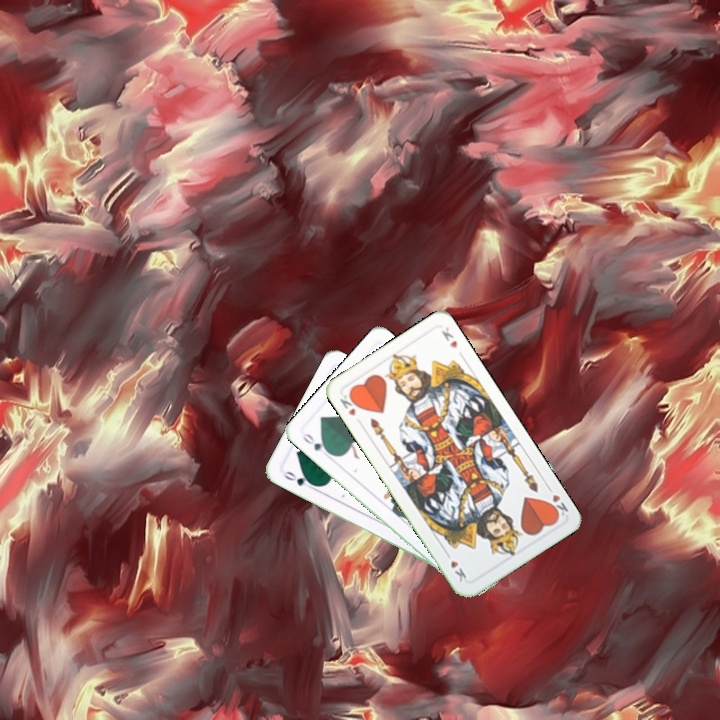GO: (298, 429, 334, 457), (279, 467, 318, 492)
HK: (543, 481, 571, 520), (335, 389, 362, 419)
